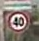limite 40: (7, 10, 30, 34)
